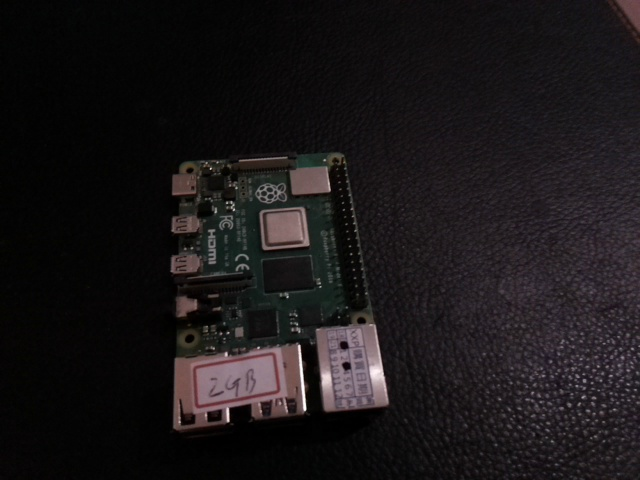pi4: (163, 152, 394, 435)
